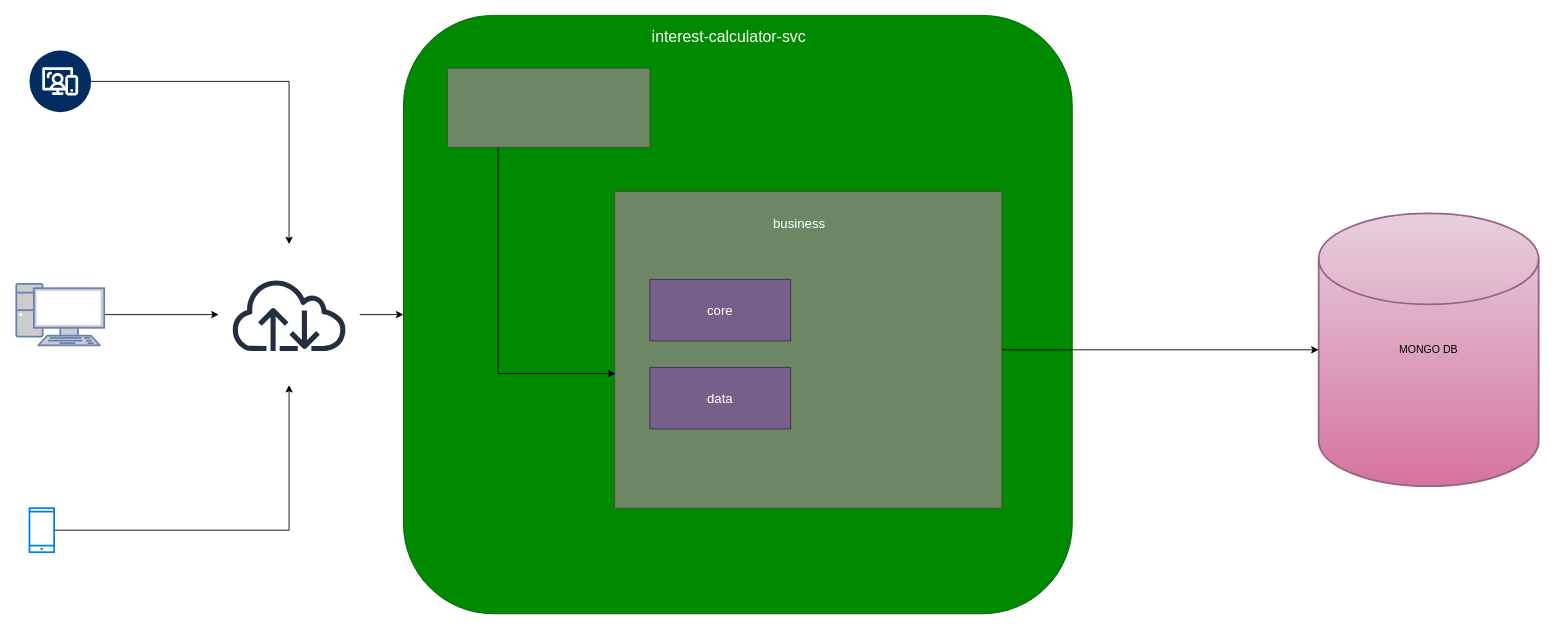
This 1554x629 diagram has some shape labels left out. The shapes that lost their labels are listed below. From the top down, each one's box as (x1, y1, x2, y2) in pixels, then its label:
(447, 67, 650, 147): app
(218, 243, 359, 385): Internet
